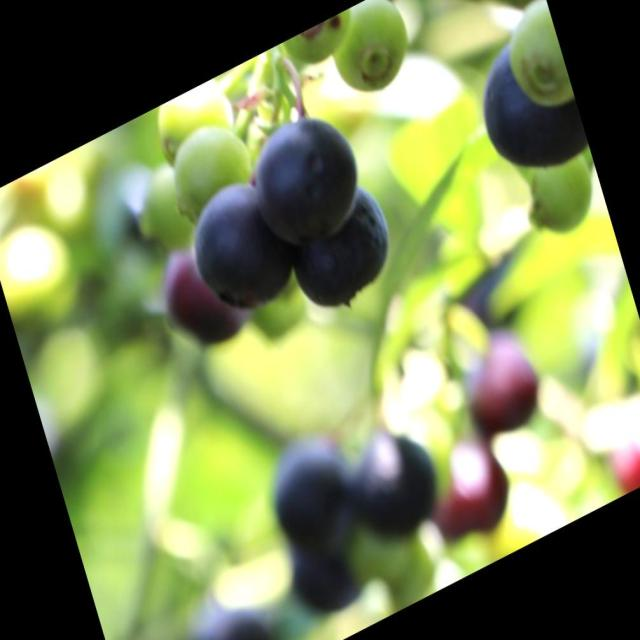blueberry: (464, 18, 590, 196), (180, 164, 299, 332), (248, 94, 371, 254), (278, 172, 402, 321), (339, 416, 445, 552), (262, 422, 361, 548)
blueberry-unripe: (163, 111, 261, 225), (321, 0, 419, 105), (492, 0, 574, 124)
